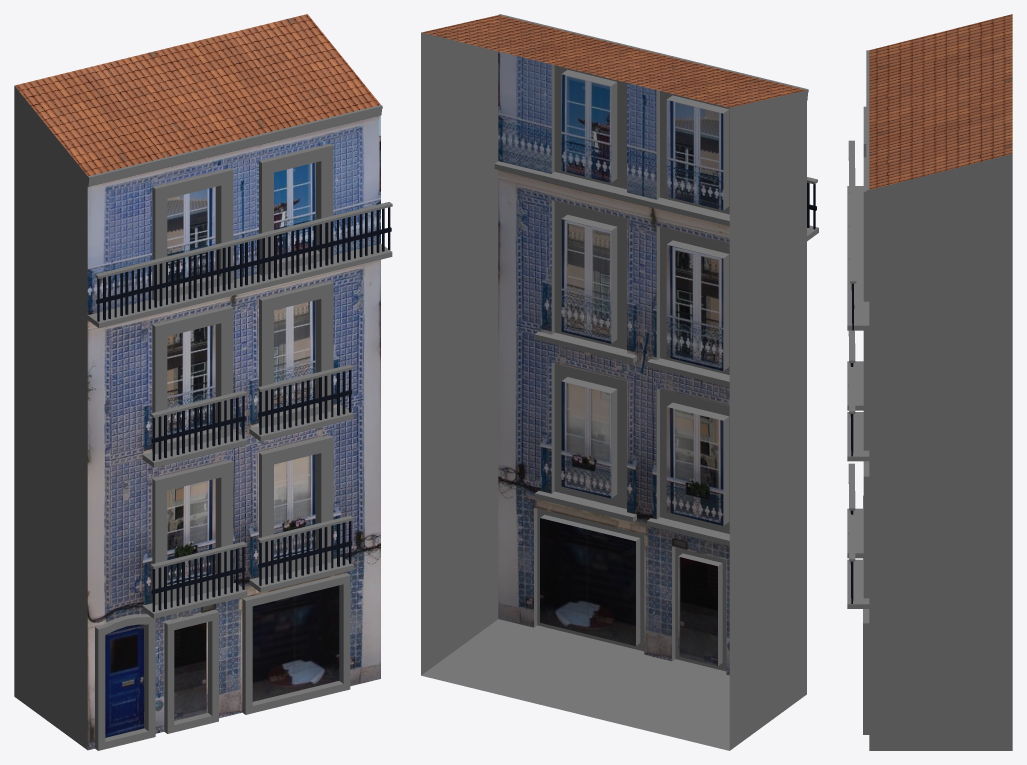
The model's file is 1930_40001821_Predio_Bairro_Alto_05.fbx.
The picture shows the model from 3 angles, left to right: view 1: azimuth 30°, elevation 25°; view 2: azimuth 150°, elevation 25°; view 3: azimuth 270°, elevation 25°; orthographic projection. The views are drawn at different scales.
Parts seen in each view (by area): view 1: 40001821_Predio_Bairro_Alto_05; view 2: 40001821_Predio_Bairro_Alto_05; view 3: 40001821_Predio_Bairro_Alto_05.
Boxes of the visible parts, x1,y1,x2,y2 form: 40001821_Predio_Bairro_Alto_05: (14, 14, 392, 750); 40001821_Predio_Bairro_Alto_05: (421, 14, 818, 750); 40001821_Predio_Bairro_Alto_05: (847, 14, 1012, 750).
Size of the model in its own units: 168 by 333 by 83.63.
4 materials, 2 textured.
